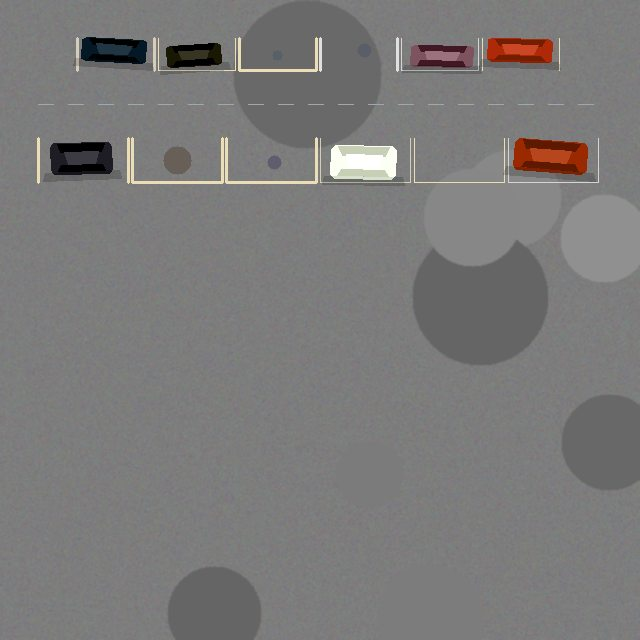space-empty: (132, 138, 222, 182), (226, 138, 316, 182), (414, 138, 504, 182), (239, 38, 316, 70), (320, 38, 397, 70)
space-occupied: (38, 138, 128, 182), (320, 138, 410, 182), (508, 138, 598, 182), (77, 38, 154, 70), (158, 38, 235, 70), (401, 38, 478, 70), (482, 38, 559, 70)
